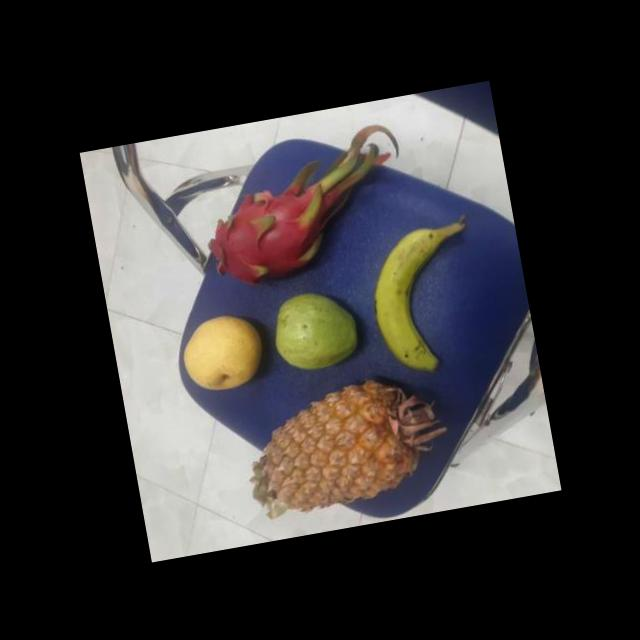banana: (360, 214, 475, 368)
guava: (268, 282, 362, 372)
pear: (177, 303, 270, 397)
pineapple: (242, 371, 444, 515)
pitaya: (199, 175, 330, 292)
